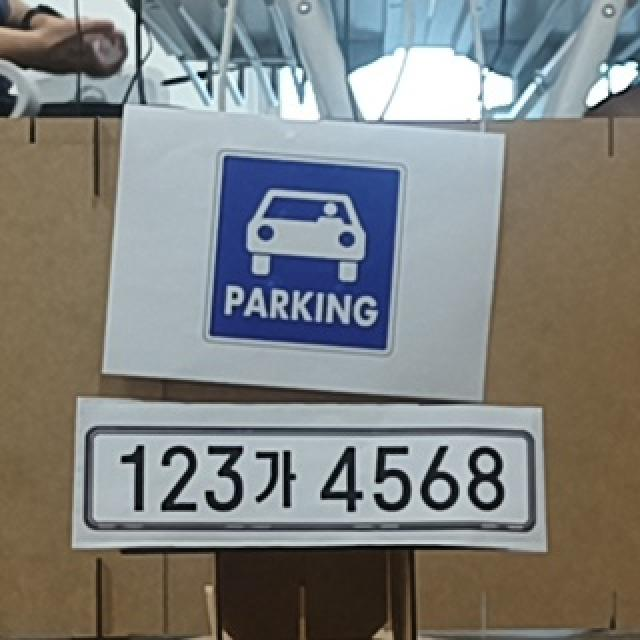normal: (85, 427, 538, 533)
